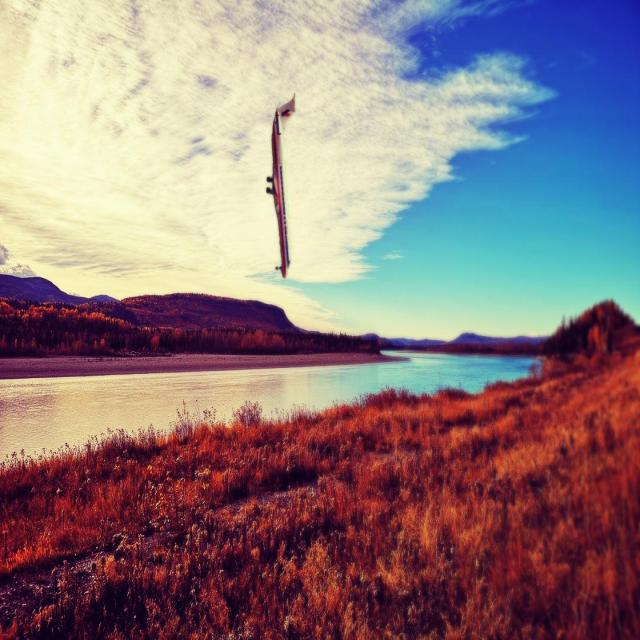airplane: (266, 92, 296, 278)
